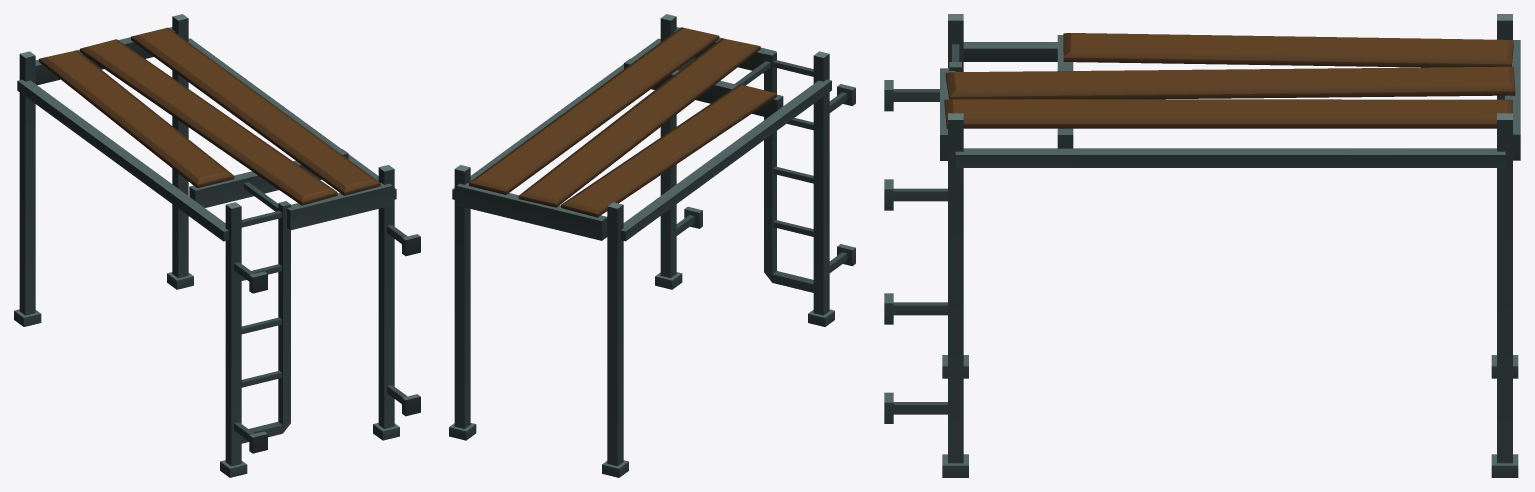
The model's file is Scaffolding_1A.fbx.
3 views of the same model, side by side, from view 1: azimuth 30°, elevation 25°; view 2: azimuth 150°, elevation 25°; view 3: azimuth 270°, elevation 25° (orthographic). The views are drawn at different scales.
Parts seen in each view (by area): view 1: Scaffolding_1A; view 2: Scaffolding_1A; view 3: Scaffolding_1A.
Part boxes in pixels (x1,y1,x2,y2): Scaffolding_1A: [14, 14, 420, 477]; Scaffolding_1A: [449, 14, 855, 477]; Scaffolding_1A: [884, 14, 1520, 477].
Size of the model in its own units: 3.4 by 5 by 8.11.
